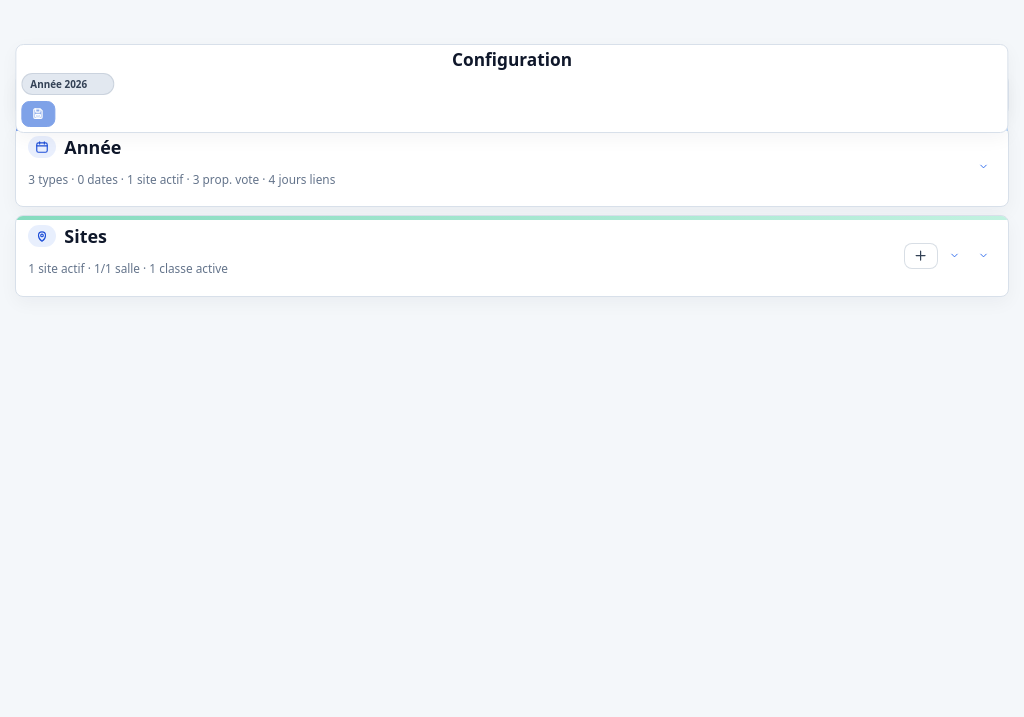
it: PlanningConfiguration › replie une famille de classes en masquant son contenu
Click the button named "Ouvrir le bloc sites" at (984, 256), box [972, 244, 996, 268]
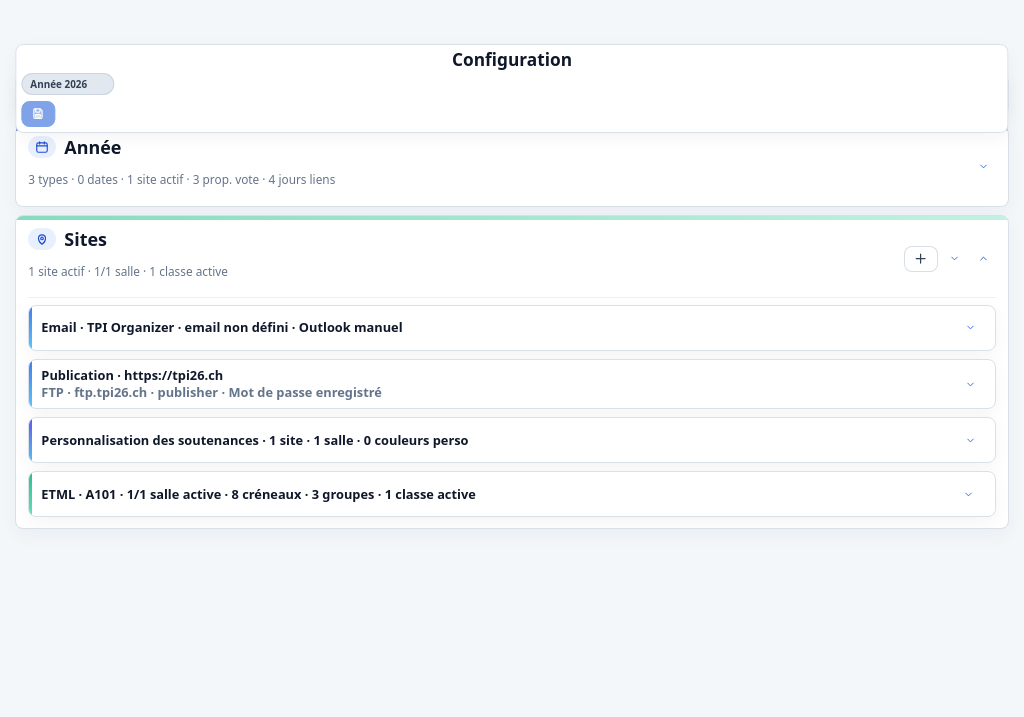
Click the button named "Ouvrir le site ETML" at (969, 494), box [957, 482, 981, 506]
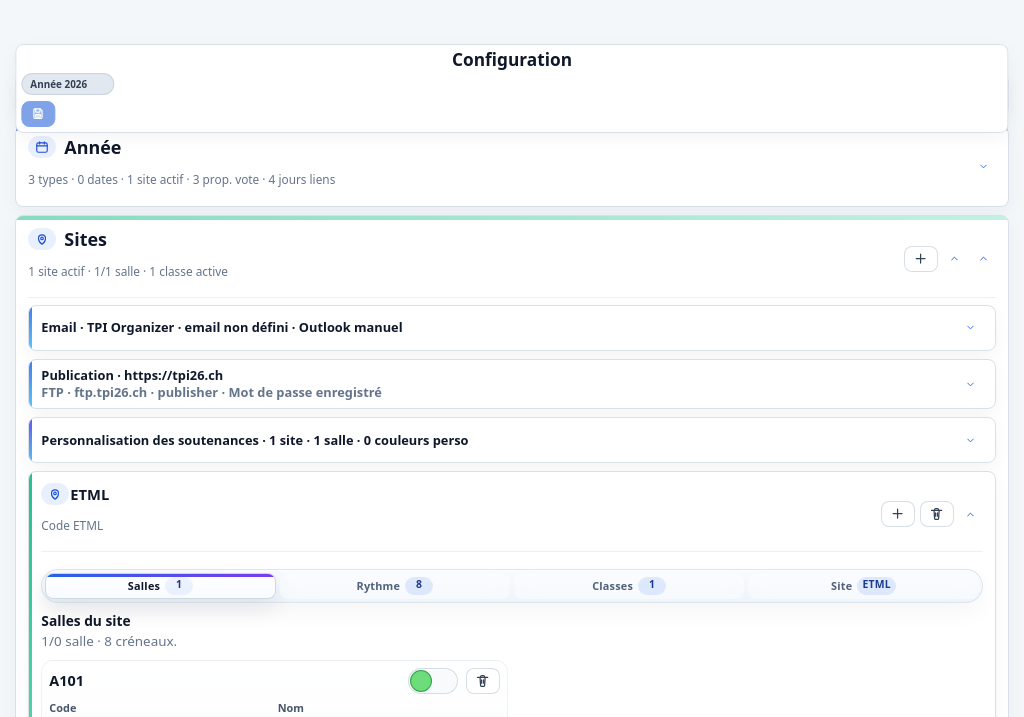
Now the button named "Réduire le site ETML" is shown, box [959, 502, 983, 526]
Click the tab "Classes 1" at (629, 586), box [514, 573, 744, 599]
(page scrolled)
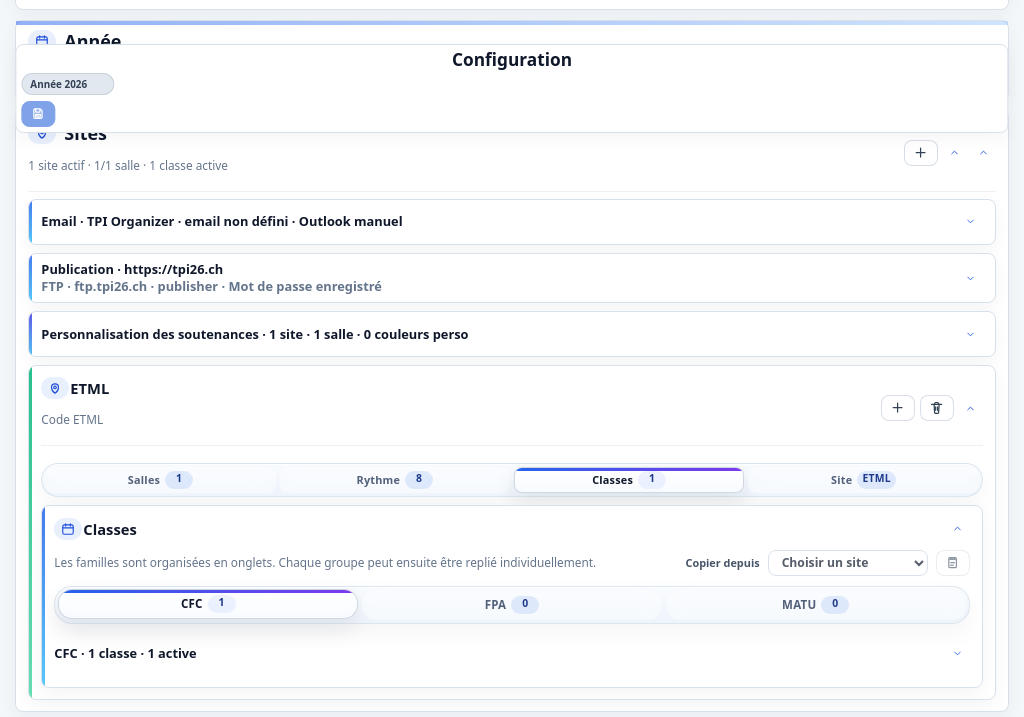
Click the button named "Ouvrir le groupe CFC" at (958, 654), box [946, 642, 970, 666]
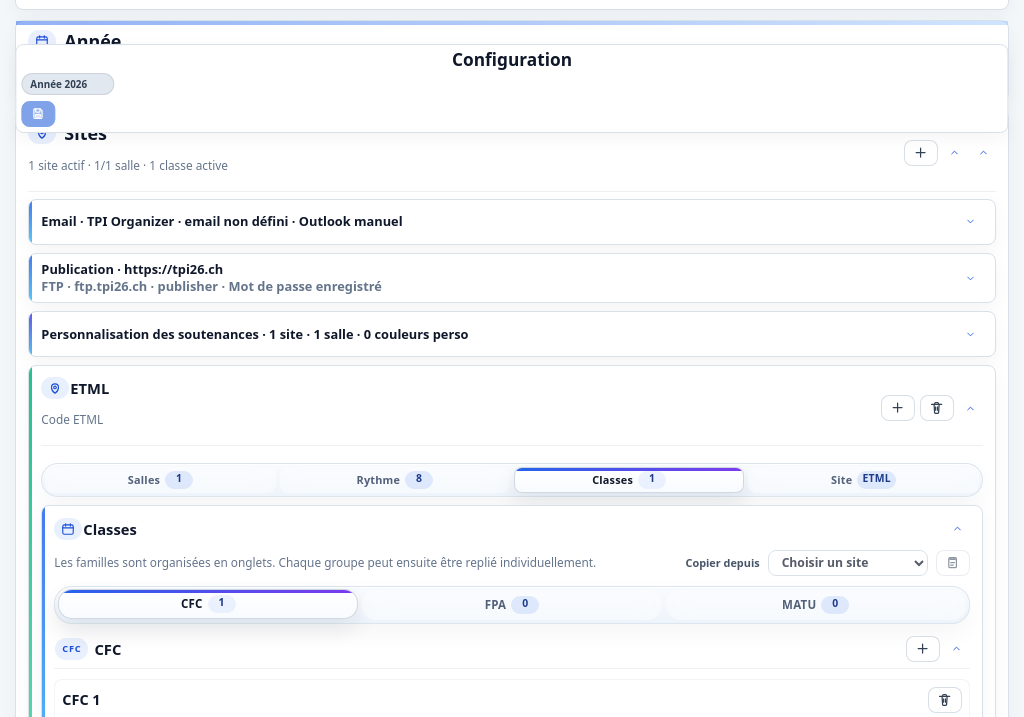
Click the button named "Réduire le groupe CFC" at (957, 649), box [945, 637, 969, 661]
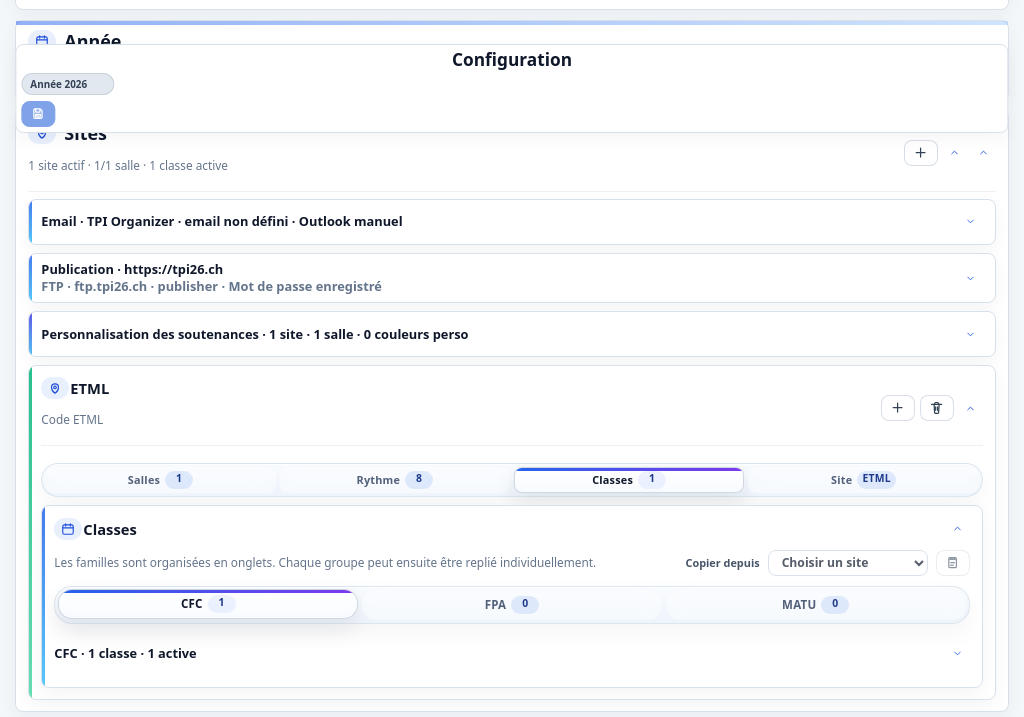
Now the button named "Ouvrir le groupe CFC" is shown, box [946, 642, 970, 666]
